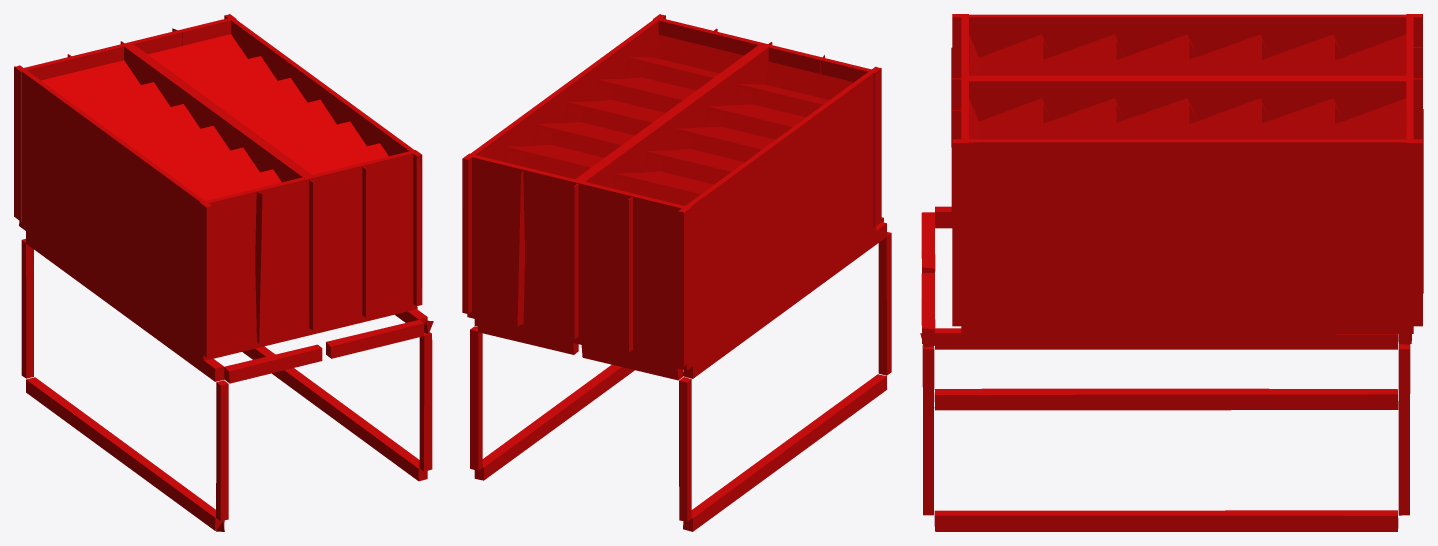
3 renders of one model, left to right at view 1: azimuth 30°, elevation 25°; view 2: azimuth 150°, elevation 25°; view 3: azimuth 270°, elevation 25°, orthographic. The views are drawn at different scales.
Visible parts, largest first — view 1: Mesh; view 2: Mesh; view 3: Mesh.
Part boxes in pixels (<box>): Mesh: <box>14,14,433,531</box>; Mesh: <box>462,14,891,531</box>; Mesh: <box>920,14,1423,531</box>.
Bounding box in the file's own units: 3.34 × 4.72 × 5.52.
